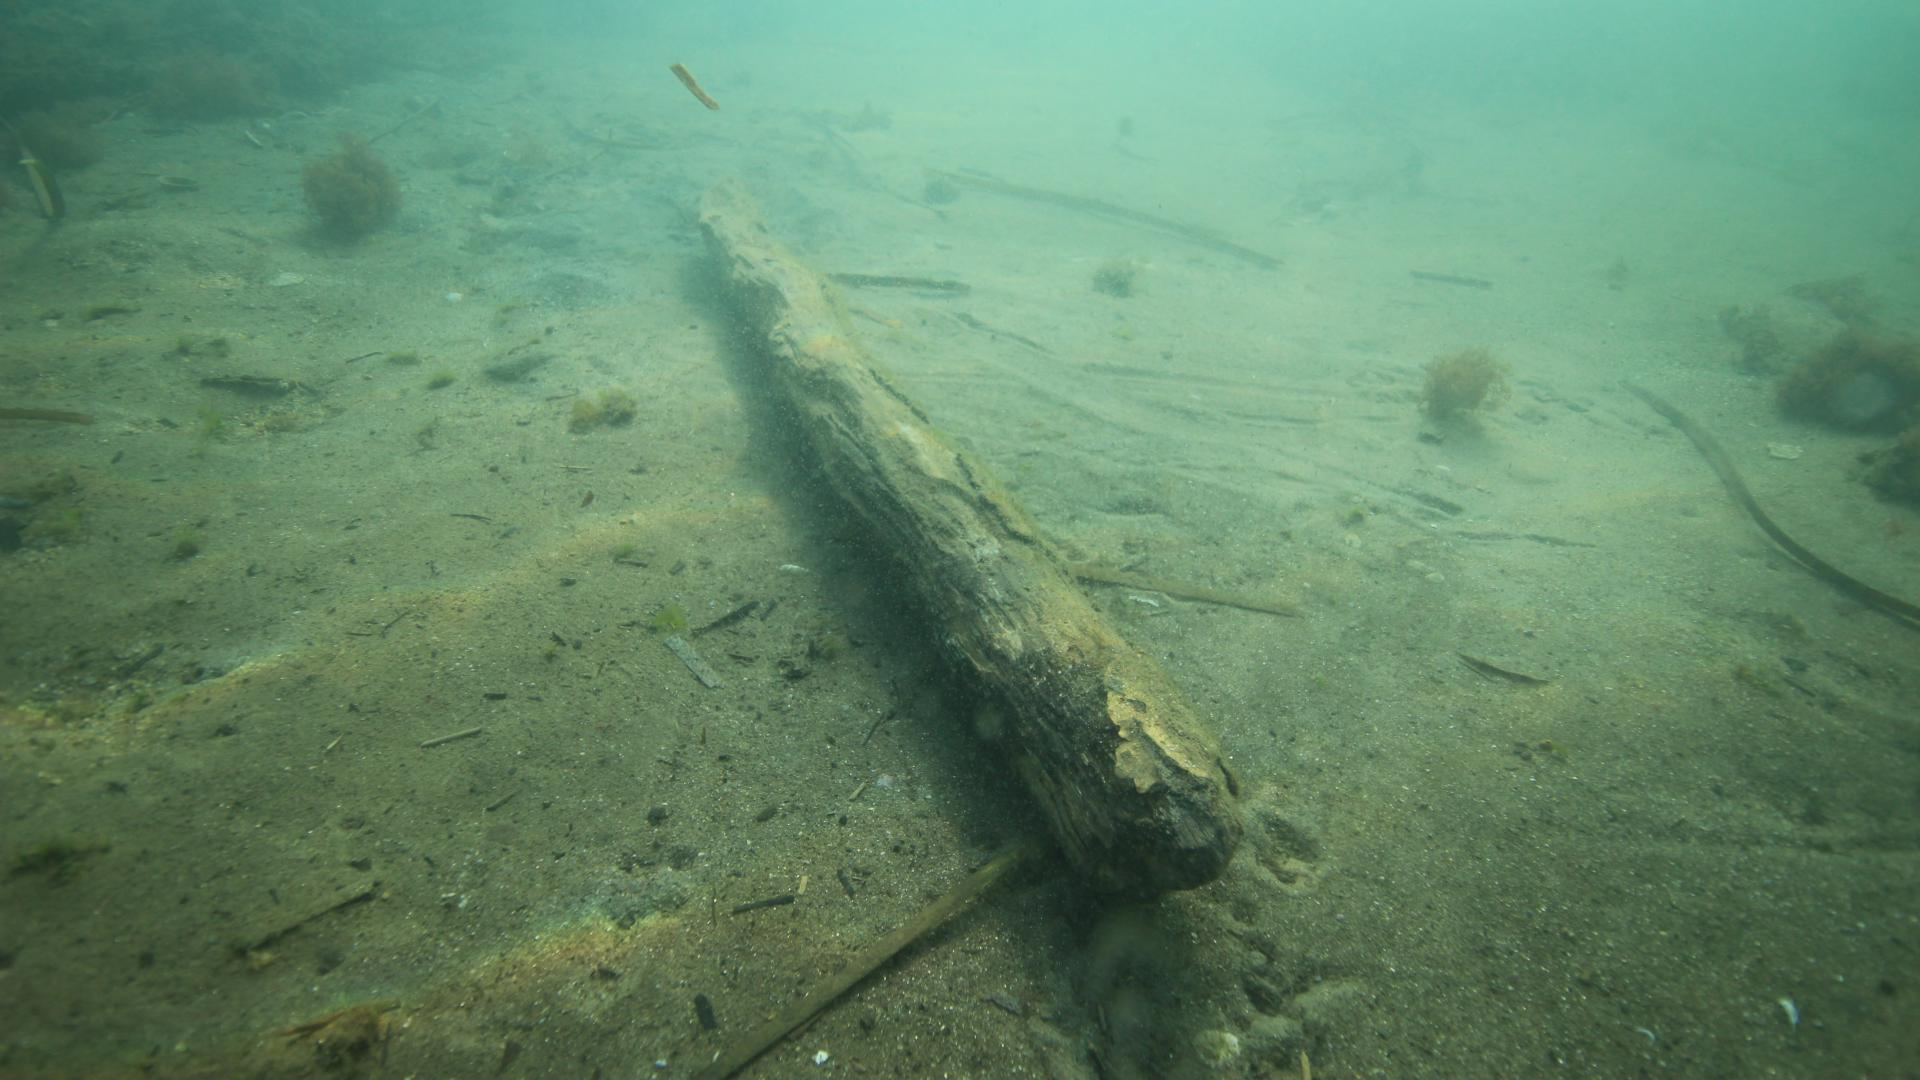wood: (657, 177, 1249, 897)
